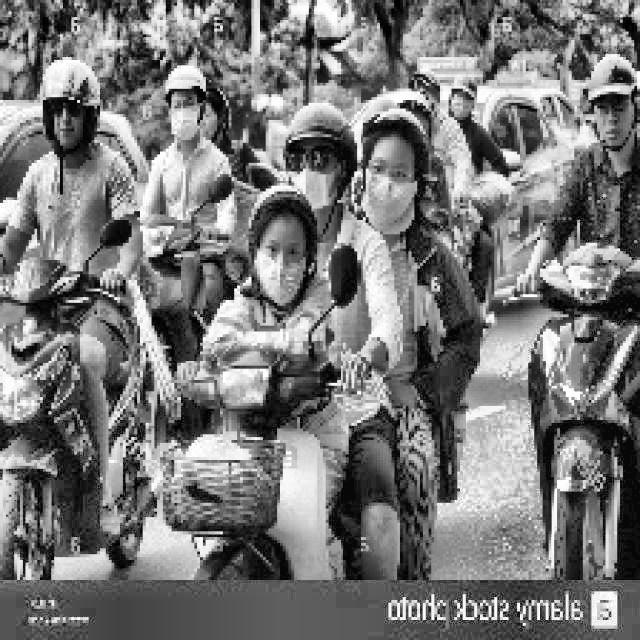motorcycle: (163, 243, 369, 579), (0, 209, 158, 581), (482, 205, 636, 578), (136, 203, 227, 336)
